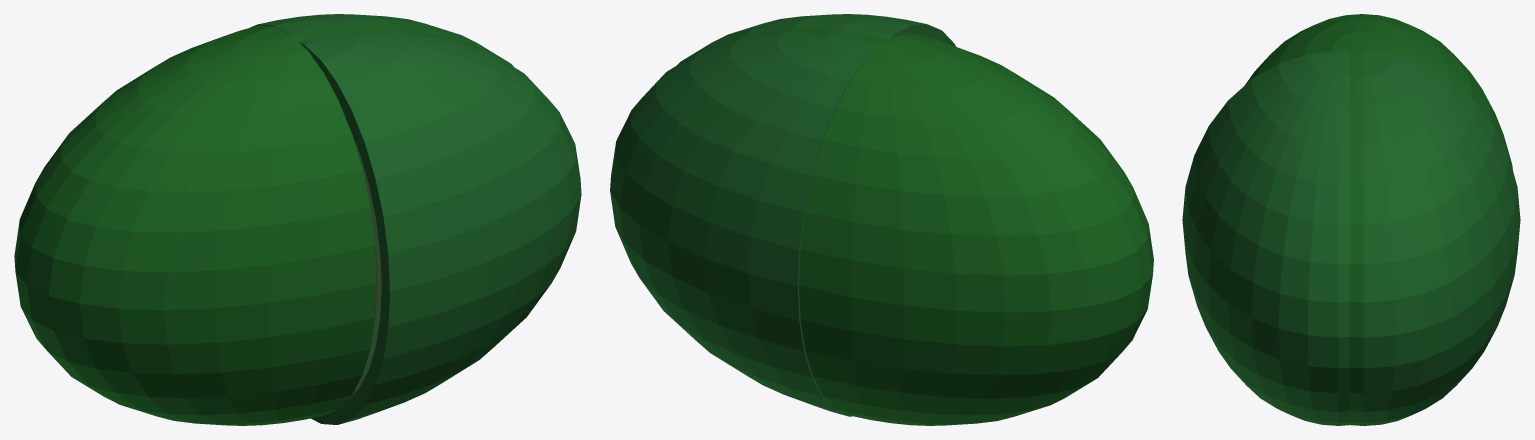
The model's file is Watermelon.fbx.
3 renders of one model, left to right at view 1: azimuth 30°, elevation 25°; view 2: azimuth 150°, elevation 25°; view 3: azimuth 270°, elevation 25°, orthographic. The views are drawn at different scales.
Parts seen in each view (by area): view 1: WaterMelon, WatermelonSliced.001, WatermelonSliced; view 2: WaterMelon, WatermelonSliced, WatermelonSliced.001; view 3: WatermelonSliced.001, WatermelonSliced, WaterMelon.
Boxes of the visible parts, x1,y1,x2,y2 form: WaterMelon: (14,24,513,425); WatermelonSliced.001: (298,30,581,424); WatermelonSliced: (250,14,504,59); WaterMelon: (668,28,1153,425); WatermelonSliced: (610,33,881,416); WatermelonSliced.001: (677,14,955,64); WatermelonSliced.001: (1182,51,1350,425); WatermelonSliced: (1363,51,1520,425); WaterMelon: (1244,14,1512,425).
Size of the model in its own units: 357 by 239 by 217.
